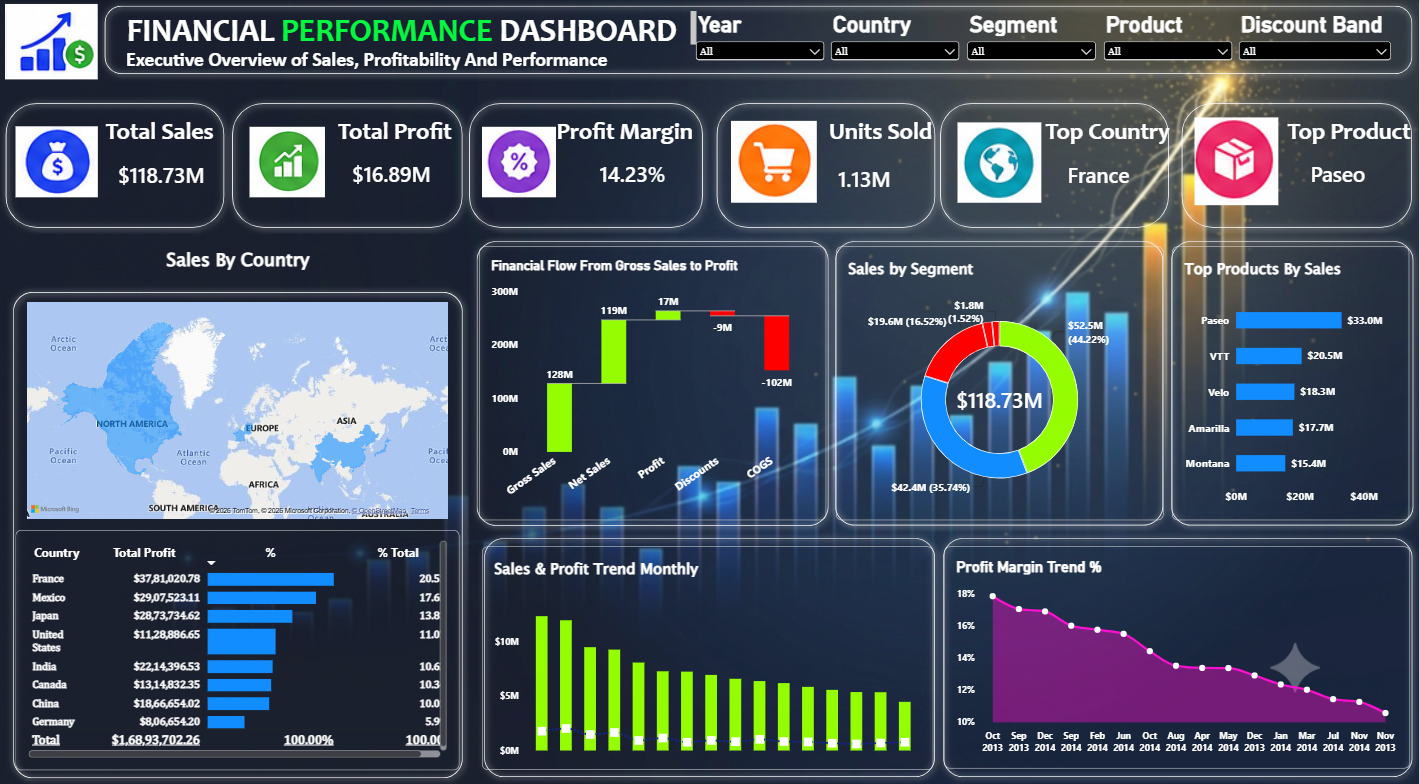

The dashboard page shown, as its layout file describes it:
{"tool":"powerbi","page":{"name":"Page 4","canvas":[1920,1080],"ordinal":0},"visuals":[{"type":"shape","box":[133.3,0,1785.4,110.4],"z":0},{"type":"shape","title":"Sales By Country","box":[10.6,334,625.5,727.7],"z":1000},{"type":"shape","box":[647.7,720.5,627.3,340.9],"z":2000},{"type":"shape","box":[1268.2,720.5,652.3,340.9],"z":3000},{"type":"shape","box":[637.3,318.2,493.6,402.7],"z":4000},{"type":"shape","box":[1120.5,318.2,461.4,402.3],"z":5000},{"type":"shape","box":[1575,318.2,345.5,402.3],"z":6000},{"type":"shape","box":[0,131.7,313.4,186.2],"z":7000},{"type":"shape","box":[306.6,131.7,329.3,186.2],"z":8000},{"type":"shape","box":[626.9,131.7,333.9,186.2],"z":9000},{"type":"shape","box":[960.8,131.7,313.4,186.2],"z":10000},{"type":"shape","box":[1262.8,131.7,327.1,186.2],"z":11000},{"type":"shape","box":[1589.9,131.7,329.3,186.2],"z":12000},{"type":"image","box":[9.1,2.3,125,111.4],"z":13000},{"type":"textbox","box":[153.5,16.3,788.4,48.8],"z":14000},{"type":"textbox","box":[154.4,65.9,685.9,45.4],"z":15000},{"type":"slicer","fields":{"Values":["Calendar.Year"]},"box":[935.8,15.9,184,84],"z":16000},{"type":"slicer","fields":{"Values":["finanacial.Segment"]},"box":[1303.7,15.9,184,84],"z":17000},{"type":"slicer","fields":{"Values":["finanacial.Product"]},"box":[1487.7,15.9,184,84],"z":18000},{"type":"slicer","fields":{"Values":["finanacial.Discount Band"]},"box":[1671.7,15.9,215.8,84],"z":19000},{"type":"slicer","fields":{"Values":["finanacial.Country"]},"box":[1119.8,15.9,184,72.7],"z":20000},{"type":"textbox","box":[143.2,159.1,170.5,52.3],"z":21000},{"type":"textbox","box":[1414.1,159.1,170.5,61.4],"z":22000},{"type":"textbox","box":[1112.3,159.1,156.8,56.8],"z":23000},{"type":"textbox","box":[751.2,158.1,190.9,56.8],"z":24000},{"type":"textbox","box":[458.6,159.1,172.7,54.5],"z":25000},{"type":"textbox","box":[1729.1,159.1,190.9,56.8],"z":26000},{"type":"image","box":[22.7,152.3,111.4,136.4],"z":27000},{"type":"image","box":[338.6,152.3,102.3,136.4],"z":28000},{"type":"image","box":[652.3,152.3,100,136.4],"z":29000},{"type":"image","box":[1615.9,150,113.6,138.6],"z":30000},{"type":"image","box":[988.6,152.3,115.9,136.4],"z":31000},{"type":"image","box":[1295.5,154.5,113.6,134.1],"z":32000},{"type":"cardVisual","fields":{"Data":["Measure.Total Sales"]},"box":[134.1,200,172.7,72.7],"z":33000},{"type":"cardVisual","fields":{"Data":["Measure.Profit Margin %"]},"box":[784.1,200,156.7,71.7],"z":34000},{"type":"cardVisual","fields":{"Data":["Sum(finanacial.Units Sold)"]},"box":[1106.8,206.8,156.7,71.7],"z":35000},{"type":"cardVisual","fields":{"Data":["Measure.Top Country"]},"box":[1418.2,200,156.8,72.7],"z":36000},{"type":"cardVisual","fields":{"Data":["Measure.Top Product"]},"box":[1745.5,200,156.7,71.7],"z":37000},{"type":"cardVisual","fields":{"Data":["Measure.Total Profit"]},"box":[450,206.8,172.7,59.1],"z":38000},{"type":"filledMap","fields":{"Category":["finanacial.Country"]},"box":[22.3,395.4,600.2,324.4],"z":39000},{"type":"tableEx","fields":{"Values":["finanacial.Country","Measure.Total Profit","Sum(finanacial. Sales)","Measure.Total Sales"]},"box":[22.3,717.8,600.2,324.4],"z":40000},{"type":"waterfallChart","title":"Financial Flow From Gross Sales to Profit","fields":{"Category":["Financial Flow.Stage"],"Y":["Financial Flow.Financial Flow Value"]},"box":[648.2,334.5,469.1,370],"z":41000},{"type":"donutChart","title":"Sales by Segment","fields":{"Category":["finanacials.Segment"],"Y":["Measure.Total Sales"]},"box":[1131.9,334,442.6,370.2],"z":42000},{"type":"barChart","title":"Top Products By Sales","fields":{"Category":["finanacials.Product"],"Y":["Measure.Total Sales"]},"box":[1586,334.9,320.9,369.8],"z":43000},{"type":"lineClusteredColumnComboChart","title":"Sales & Profit Trend Monthly","fields":{"Category":["Calendar.Month Year"],"Y":["Measure.Total Sales"],"Y2":["Measure.Total Profit"]},"box":[652.9,740.1,610.3,302.1],"z":44000},{"type":"areaChart","title":"Profit Margin Trend %","fields":{"Category":["Calendar.Month Year"],"Y":["Measure.Profit Margin %"]},"box":[1276.7,739.5,630.2,300],"z":45000}]}

Visuals, with their boxes in screenshot pixels (x1, y1, x2, y2), scaled from the page's 1920x1080 canvas onto the 1420x784 screenshot:
shape: [left=99, top=0, right=1419, bottom=80]
"Sales By Country" shape: [left=8, top=242, right=470, bottom=771]
shape: [left=479, top=523, right=943, bottom=770]
shape: [left=938, top=523, right=1419, bottom=770]
shape: [left=471, top=231, right=836, bottom=523]
shape: [left=829, top=231, right=1170, bottom=523]
shape: [left=1165, top=231, right=1419, bottom=523]
shape: [left=0, top=96, right=232, bottom=231]
shape: [left=227, top=96, right=470, bottom=231]
shape: [left=464, top=96, right=711, bottom=231]
shape: [left=711, top=96, right=942, bottom=231]
shape: [left=934, top=96, right=1176, bottom=231]
shape: [left=1176, top=96, right=1419, bottom=231]
image: [left=7, top=2, right=99, bottom=83]
textbox: [left=114, top=12, right=697, bottom=47]
textbox: [left=114, top=48, right=621, bottom=81]
slicer - Calendar.Year: [left=692, top=12, right=828, bottom=73]
slicer - finanacial.Segment: [left=964, top=12, right=1100, bottom=73]
slicer - finanacial.Product: [left=1100, top=12, right=1236, bottom=73]
slicer - finanacial.Discount Band: [left=1236, top=12, right=1396, bottom=73]
slicer - finanacial.Country: [left=828, top=12, right=964, bottom=64]
textbox: [left=106, top=115, right=232, bottom=153]
textbox: [left=1046, top=115, right=1172, bottom=160]
textbox: [left=823, top=115, right=939, bottom=157]
textbox: [left=556, top=115, right=697, bottom=156]
textbox: [left=339, top=115, right=467, bottom=155]
textbox: [left=1279, top=115, right=1419, bottom=157]
image: [left=17, top=111, right=99, bottom=210]
image: [left=250, top=111, right=326, bottom=210]
image: [left=482, top=111, right=556, bottom=210]
image: [left=1195, top=109, right=1279, bottom=210]
image: [left=731, top=111, right=817, bottom=210]
image: [left=958, top=112, right=1042, bottom=210]
cardVisual - Measure.Total Sales: [left=99, top=145, right=227, bottom=198]
cardVisual - Measure.Profit Margin %: [left=580, top=145, right=696, bottom=197]
cardVisual - Sum(finanacial.Units Sold): [left=819, top=150, right=934, bottom=202]
cardVisual - Measure.Top Country: [left=1049, top=145, right=1165, bottom=198]
cardVisual - Measure.Top Product: [left=1291, top=145, right=1407, bottom=197]
cardVisual - Measure.Total Profit: [left=333, top=150, right=461, bottom=193]
filledMap - finanacial.Country: [left=16, top=287, right=460, bottom=523]
tableEx - finanacial.Country x Measure.Total Profit: [left=16, top=521, right=460, bottom=757]
"Financial Flow From Gross Sales to Profit" waterfallChart: [left=479, top=243, right=826, bottom=511]
"Sales by Segment" donutChart: [left=837, top=242, right=1164, bottom=511]
"Top Products By Sales" barChart: [left=1173, top=243, right=1410, bottom=512]
"Sales & Profit Trend Monthly" lineClusteredColumnComboChart: [left=483, top=537, right=934, bottom=757]
"Profit Margin Trend %" areaChart: [left=944, top=537, right=1410, bottom=755]
